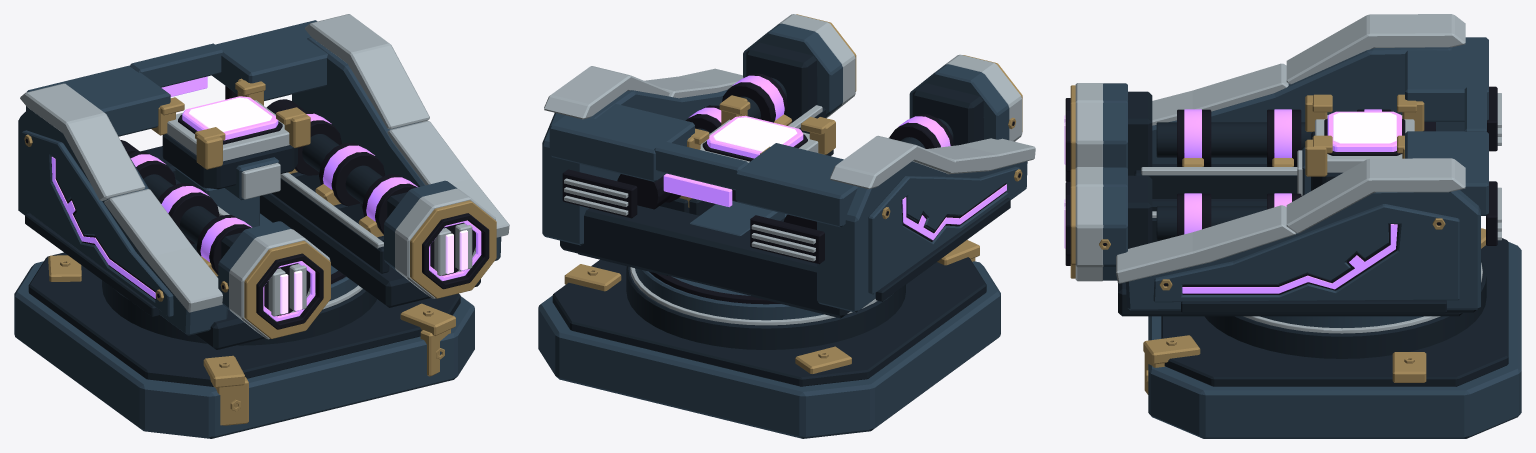
Rendered from lightning.glb.
3 renders of one model, left to right at view 1: azimuth 30°, elevation 25°; view 2: azimuth 150°, elevation 25°; view 3: azimuth 270°, elevation 25°, orthographic. The views are drawn at different scales.
Visible parts, largest first — view 1: turret_head_geometry, turret_root_geometry, turret_barrel_geometry; view 2: turret_head_geometry, turret_root_geometry, turret_barrel_geometry; view 3: turret_head_geometry, turret_root_geometry, turret_barrel_geometry.
Part boxes in pixels (bbox=[...]): turret_head_geometry: bbox=[18, 14, 509, 349]; turret_root_geometry: bbox=[14, 252, 474, 438]; turret_barrel_geometry: bbox=[120, 99, 496, 339]; turret_head_geometry: bbox=[542, 66, 1035, 320]; turret_root_geometry: bbox=[538, 240, 1000, 438]; turret_barrel_geometry: bbox=[617, 14, 1022, 229]; turret_head_geometry: bbox=[1116, 14, 1501, 328]; turret_root_geometry: bbox=[1143, 228, 1521, 438]; turret_barrel_geometry: bbox=[1064, 83, 1435, 281].
Size of the model in its own units: 0.8615 by 0.615 by 0.98.
